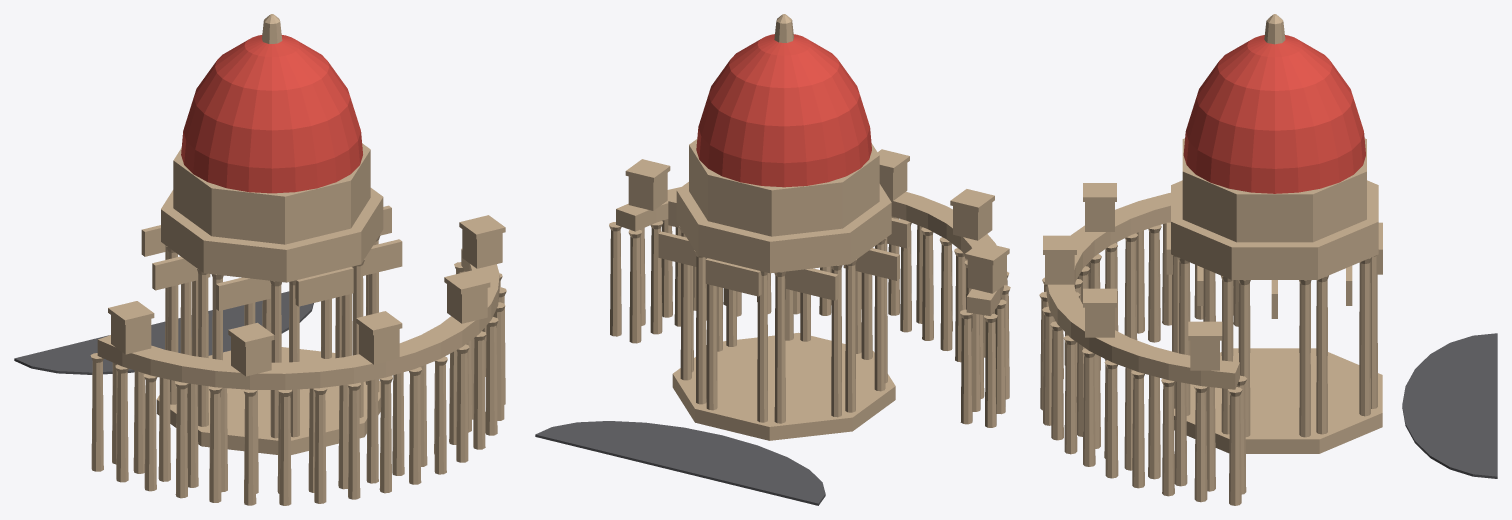
The model's file is fine_arts.glb.
3 views of the same model, side by side, from view 1: azimuth 30°, elevation 25°; view 2: azimuth 150°, elevation 25°; view 3: azimuth 270°, elevation 25° (orthographic). The views are drawn at different scales.
Visible parts, largest first — view 1: fine_arts; view 2: fine_arts; view 3: fine_arts.
Part boxes in pixels (x1,y1,x2,y2): fine_arts: (14, 14, 506, 505); fine_arts: (535, 14, 1010, 505); fine_arts: (1039, 14, 1497, 505).
Bounding box in the file's own units: 43.75 × 40.9 × 43.2.
